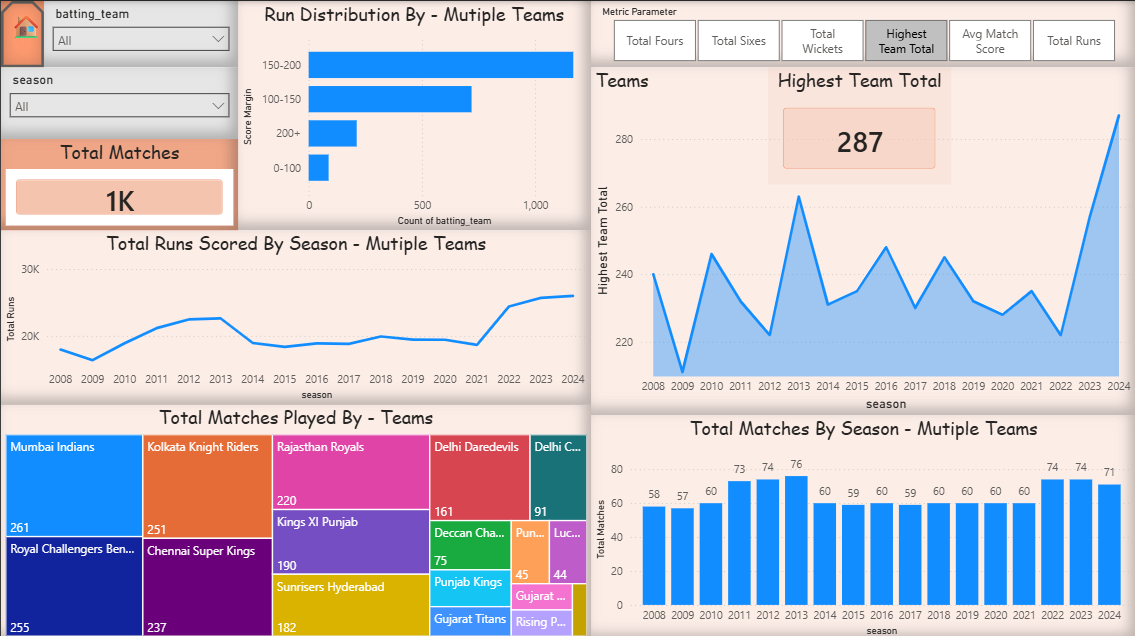

What the dashboard file says about the page in this screenshot:
{"tool":"powerbi","page":{"name":"Executive Overview","canvas":[1280,720],"ordinal":1},"visuals":[{"type":"slicer","fields":{"Values":["deliveries.batting_team"]},"box":[48.4,0,218.6,74.8],"z":0},{"type":"areaChart","fields":{"Y":["deliveries.Highest Team Total"],"Category":["matches.season"]},"box":[664.8,74.8,614.9,391.8],"z":1000},{"type":"cardVisual","title":"Total Matches","fields":{"Data":["deliveries.Total Matches"]},"box":[0,155.5,267.1,102.7],"z":2000},{"type":"lineChart","fields":{"Category":["matches.season"],"Y":["deliveries.Total Runs"]},"box":[0,258.3,664.8,196.6],"z":3000},{"type":"slicer","fields":{"Values":["matches.season"]},"box":[0,74.8,267.1,80.7],"z":4000},{"type":"clusteredColumnChart","fields":{"Category":["matches.season"],"Y":["deliveries.Total Matches"]},"box":[664.8,466.6,614.9,253.9],"z":5000},{"type":"treemap","fields":{"Group":["deliveries.batting_team"],"Values":["deliveries.Total Matches"]},"box":[0,454.9,664.8,265.6],"z":6000},{"type":"clusteredBarChart","fields":{"Category":["Match Details.Score Margin"],"Y":["CountNonNull(Match Details.batting_team)"]},"box":[267.1,0,397.7,258.3],"z":7000},{"type":"slicer","fields":{"Values":["Metric Parameter.Metric Parameter"]},"box":[664.8,0,614.9,74.8],"z":8000},{"type":"cardVisual","fields":{"Data":["deliveries.Highest Team Total"]},"box":[864.3,74.8,206.9,132.1],"z":9000},{"type":"actionButton","box":[0,0,48.4,74.8],"z":10000}]}

Visuals, with their boxes in screenshot pixels (x1, y1, x2, y2), scaled from the page's 1280x720 canvas onto the 1135x636 screenshot:
slicer - deliveries.batting_team: detection(43, 0, 237, 66)
areaChart - deliveries.Highest Team Total x matches.season: detection(589, 66, 1134, 412)
"Total Matches" cardVisual: detection(0, 137, 237, 228)
lineChart - matches.season x deliveries.Total Runs: detection(0, 228, 589, 402)
slicer - matches.season: detection(0, 66, 237, 137)
clusteredColumnChart - matches.season x deliveries.Total Matches: detection(589, 412, 1134, 635)
treemap - deliveries.batting_team x deliveries.Total Matches: detection(0, 402, 589, 635)
clusteredBarChart - Match Details.Score Margin x CountNonNull(Match Details.batting_team): detection(237, 0, 589, 228)
slicer - Metric Parameter.Metric Parameter: detection(589, 0, 1134, 66)
cardVisual - deliveries.Highest Team Total: detection(766, 66, 950, 183)
actionButton: detection(0, 0, 43, 66)
